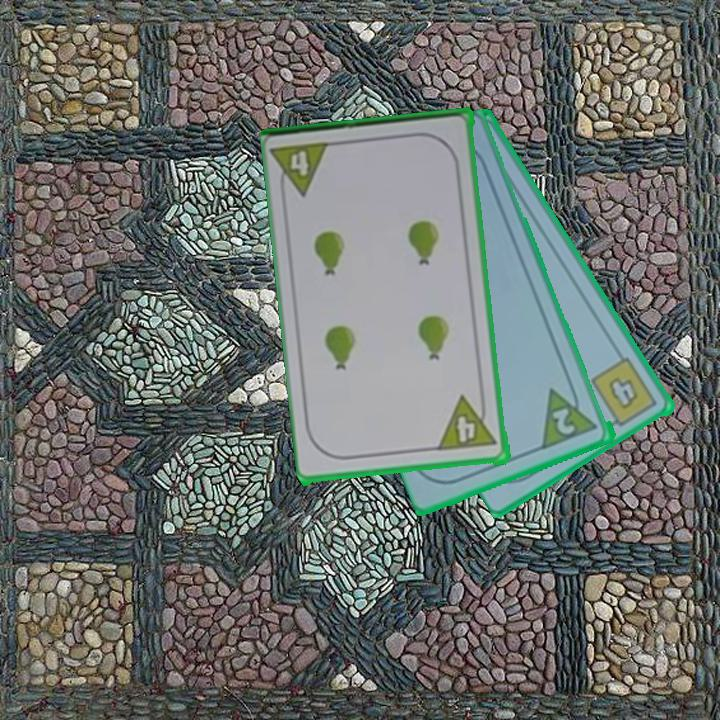2p: (539, 379, 601, 452)
4b: (588, 354, 661, 432)
4p: (270, 138, 336, 202), (435, 392, 501, 454)
